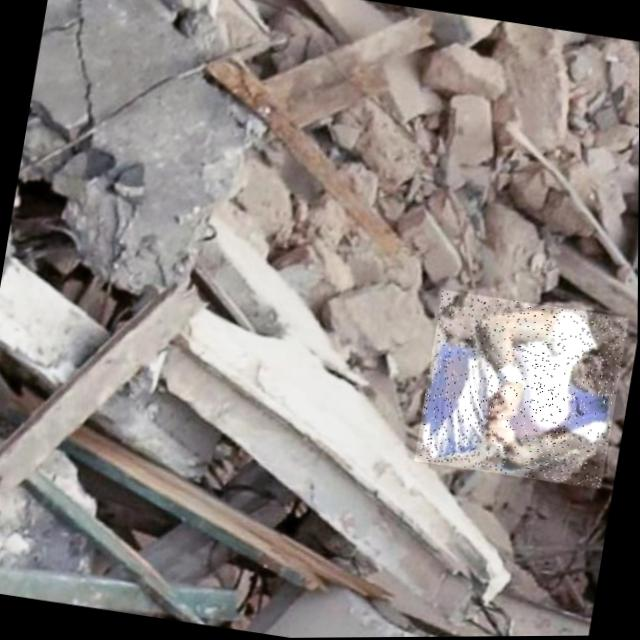Person in Rubble: (414, 289, 629, 491)
